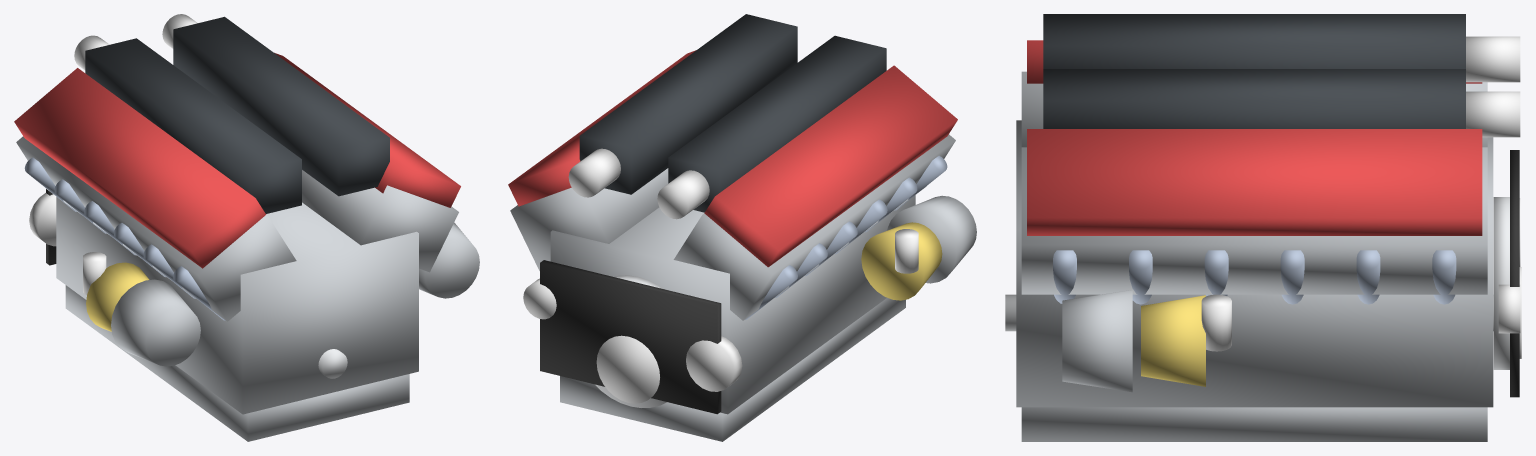
File: v12_racing_engine.glb
3 renders of one model, left to right at view 1: azimuth 30°, elevation 25°; view 2: azimuth 150°, elevation 25°; view 3: azimuth 270°, elevation 25°, orthographic. The views are drawn at different scales.
Visible parts, largest first — view 1: Engine_Block_V12, Valve_Cover_Left, Intake_Plenum_Carbon_Right, Intake_Plenum_Carbon_Left, Dry_Sump_Oil_Pan, Cylinder_Head_Left, Cylinder_Head_Right, Compressor_Housing_Left, Valve_Cover_Right, Compressor_Housing_Right, Turbine_Housing_Left, Water_Pump_Drive_Pulley (+10 smaller); view 2: Valve_Cover_Left, Engine_Block_V12, Intake_Plenum_Carbon_Right, Serpentine_Accessory_Belt, Intake_Plenum_Carbon_Left, Dry_Sump_Oil_Pan, Cylinder_Head_Left, Cylinder_Head_Right, Turbine_Housing_Left, Compressor_Housing_Left, Harmonic_Balancer_Pulley, Valve_Cover_Right (+12 smaller); view 3: Valve_Cover_Right, Engine_Block_V12, Intake_Plenum_Carbon_Right, Cylinder_Head_Right, Intake_Plenum_Carbon_Left, Dry_Sump_Oil_Pan, Compressor_Housing_Right, Turbine_Housing_Right, Throttle_Body_Left, Throttle_Body_Right, Flywheel_Dual_Mass, Serpentine_Accessory_Belt (+10 smaller).
Part boxes in pixels (box(x1,y1,x2,y2)): Engine_Block_V12: box(56, 197, 418, 414); Valve_Cover_Left: box(14, 68, 266, 268); Intake_Plenum_Carbon_Right: box(173, 16, 389, 196); Intake_Plenum_Carbon_Left: box(85, 38, 301, 213); Dry_Sump_Oil_Pan: box(65, 285, 409, 441); Cylinder_Head_Left: box(16, 136, 296, 321); Cylinder_Head_Right: box(302, 170, 458, 272); Compressor_Housing_Left: box(111, 279, 200, 366); Valve_Cover_Right: box(274, 52, 460, 207); Compressor_Housing_Right: box(419, 222, 479, 298); Turbine_Housing_Left: box(86, 262, 149, 331); Water_Pump_Drive_Pulley: box(29, 193, 56, 246); Valve_Cover_Left: box(704, 65, 957, 267); Engine_Block_V12: box(550, 195, 915, 414); Intake_Plenum_Carbon_Right: box(579, 14, 797, 194); Serpentine_Accessory_Belt: box(540, 260, 721, 414); Intake_Plenum_Carbon_Left: box(668, 35, 886, 212); Dry_Sump_Oil_Pan: box(560, 298, 905, 441); Cylinder_Head_Left: box(673, 134, 955, 320); Cylinder_Head_Right: box(510, 168, 668, 270); Turbine_Housing_Left: box(861, 222, 942, 300); Compressor_Housing_Left: box(887, 195, 976, 283); Harmonic_Balancer_Pulley: box(596, 335, 659, 403); Valve_Cover_Right: box(508, 50, 696, 206); Valve_Cover_Right: box(1027, 129, 1482, 235); Engine_Block_V12: box(1016, 120, 1493, 407); Intake_Plenum_Carbon_Right: box(1043, 69, 1465, 128); Cylinder_Head_Right: box(1021, 147, 1487, 294); Intake_Plenum_Carbon_Left: box(1043, 14, 1465, 68); Dry_Sump_Oil_Pan: box(1021, 407, 1487, 441); Compressor_Housing_Right: box(1062, 290, 1132, 392); Turbine_Housing_Right: box(1141, 295, 1205, 386); Throttle_Body_Left: box(1466, 36, 1520, 82); Throttle_Body_Right: box(1466, 91, 1520, 137); Flywheel_Dual_Mass: box(1493, 197, 1509, 369); Serpentine_Accessory_Belt: box(1510, 150, 1519, 397).
Bounding box in the file's own units: 0.95 × 0.68 × 0.9525.
